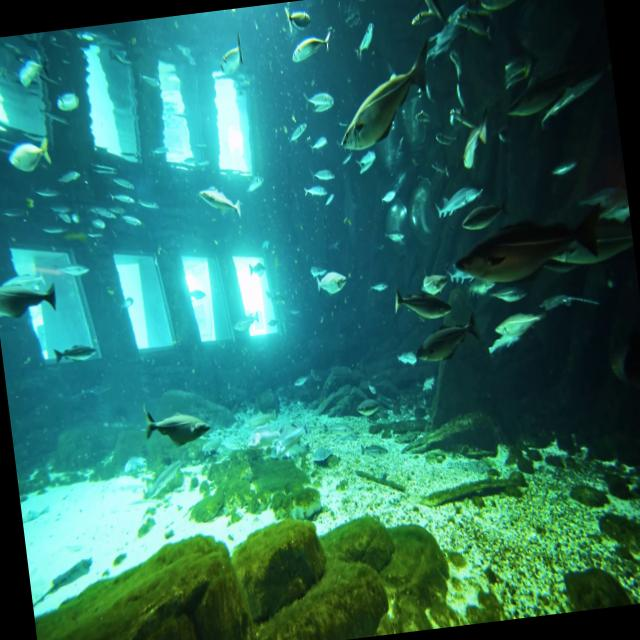fish: (449, 202, 606, 294), (325, 36, 446, 154), (126, 390, 214, 456), (406, 313, 483, 372), (0, 121, 61, 188), (195, 166, 247, 242), (0, 270, 64, 330), (44, 325, 109, 382), (390, 276, 457, 320), (208, 30, 251, 90), (488, 302, 550, 340), (468, 0, 564, 24), (280, 26, 324, 71), (294, 76, 340, 118), (306, 264, 350, 304), (276, 0, 316, 36)
